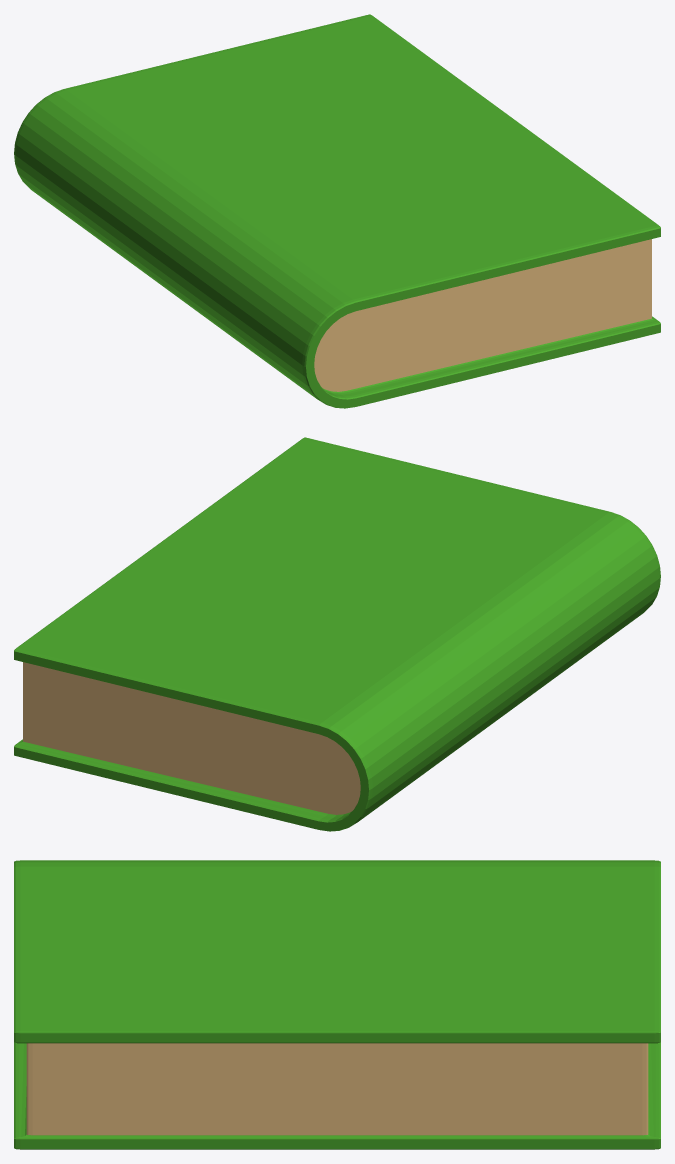
Rendered from BookGreen.fbx.
The picture shows the model from 3 angles, top to bottom: view 1: azimuth 30°, elevation 25°; view 2: azimuth 150°, elevation 25°; view 3: azimuth 270°, elevation 25°; orthographic projection. The views are drawn at different scales.
Parts seen in each view (by area): view 1: Book.001; view 2: Book.001; view 3: Book.001.
Part boxes in pixels (x1,y1,x2,y2): Book.001: (14,14,660,408); Book.001: (14,437,660,831); Book.001: (14,860,660,1149).
Size of the model in its own units: 702 by 200 by 995.
